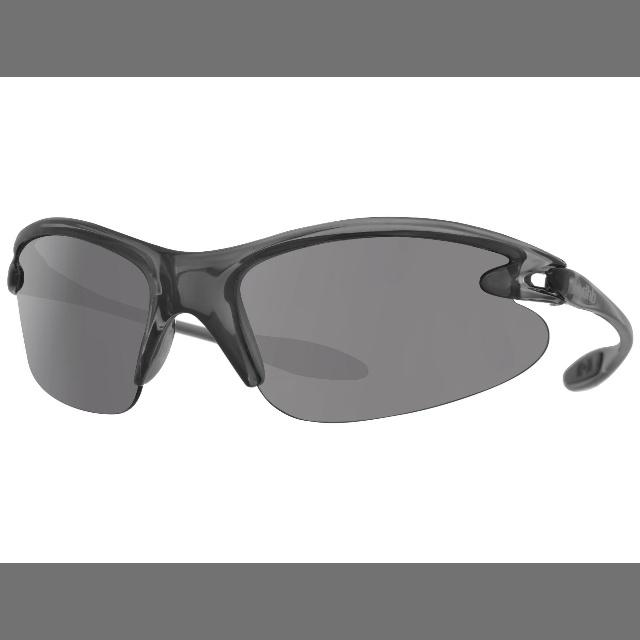Sunglasses: (4, 192, 640, 440)
